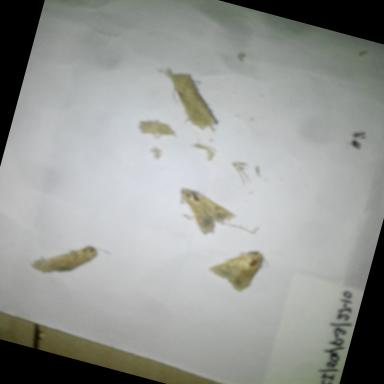abw: (152, 66, 236, 138), (26, 228, 116, 294), (166, 182, 246, 248), (200, 238, 274, 302)
